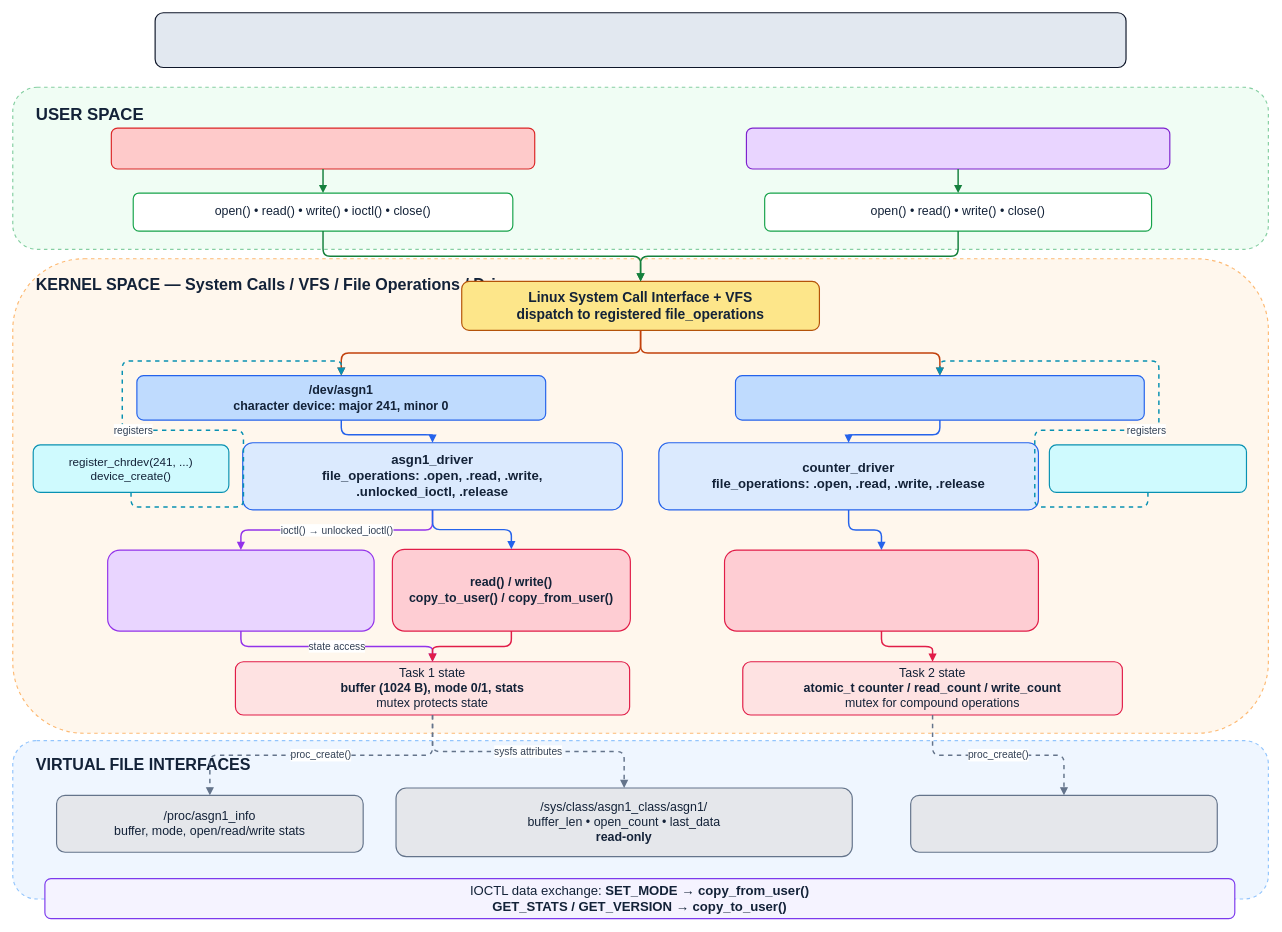
Image size: 1282x932. Some labels were removed from this diagram. The centre of each missing label's shape, as x and y in pixels:
"/dev/counter miscdevice: major 10, dynamic minor" belongs at pixel 939 397.
"/proc/counter_info counter • total reads • total writes" belongs at pixel 1063 823.
"ASSIGNMENT 01 — LINUX DEVICE DRIVER ARCHITECTURE" belongs at pixel 640 40.
"misc_register() MISC_DYNAMIC_MINOR" belongs at pixel 1147 468.
"read() / write() simple_read_from_buffer() copy_from_user() • *ppos / EOF" belongs at pixel 881 590.
"TASK 1 — Userspace app test_ioctl (C executable)" belongs at pixel 322 148.
"TASK 2 — Userspace script test_counter.sh (cat / echo)" belongs at pixel 957 148.
"unlocked_ioctl() RESET_BUFFER • GET_STATS SET_MODE • GET_VERSION" belongs at pixel 240 590.
